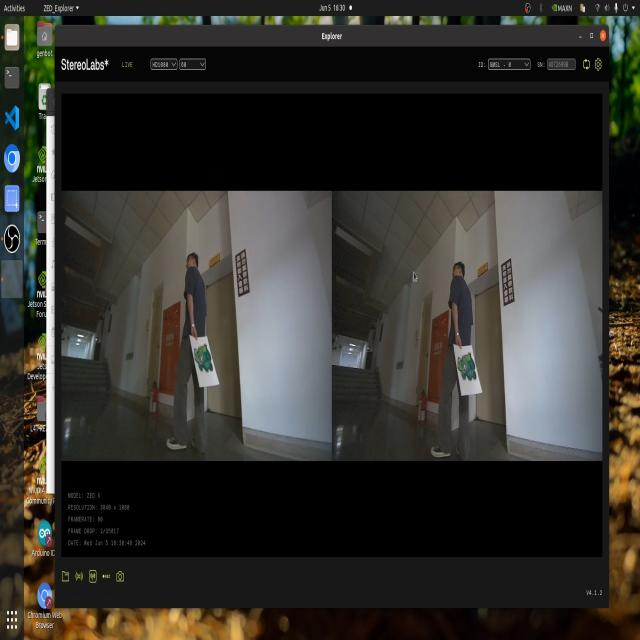green: (190, 340, 214, 378), (455, 354, 479, 386)
